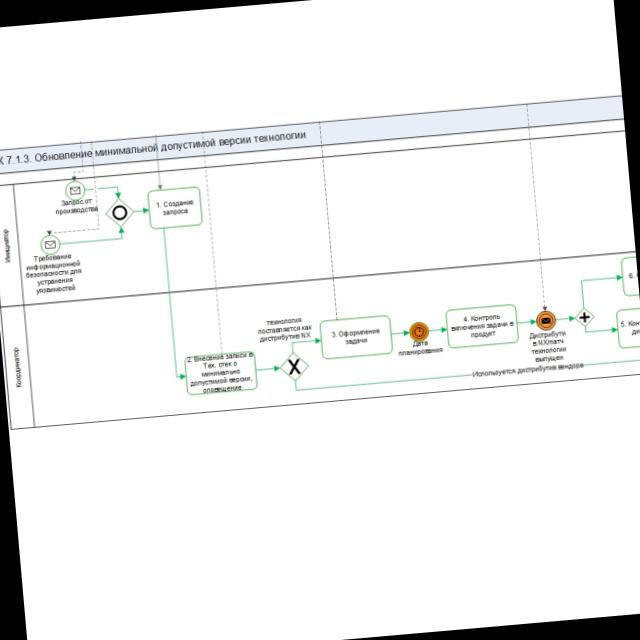arrow: (160, 228, 186, 381), (579, 274, 625, 309), (59, 226, 125, 246), (85, 184, 122, 202), (290, 336, 322, 353), (584, 324, 618, 336), (255, 364, 280, 374), (429, 325, 448, 335), (517, 318, 537, 327), (555, 314, 575, 323), (391, 329, 409, 338), (133, 206, 149, 215)
circle: (39, 234, 61, 256), (64, 179, 86, 201), (408, 321, 430, 343), (535, 310, 556, 331)
diamond: (105, 198, 135, 228), (279, 352, 309, 382), (575, 308, 595, 328)
rectangle: (445, 304, 519, 349), (184, 351, 258, 396), (319, 315, 393, 360), (147, 186, 203, 230)
text_region: (24, 251, 83, 295), (472, 361, 584, 377), (256, 316, 313, 342), (527, 329, 568, 364), (53, 197, 98, 217), (397, 339, 443, 357)
